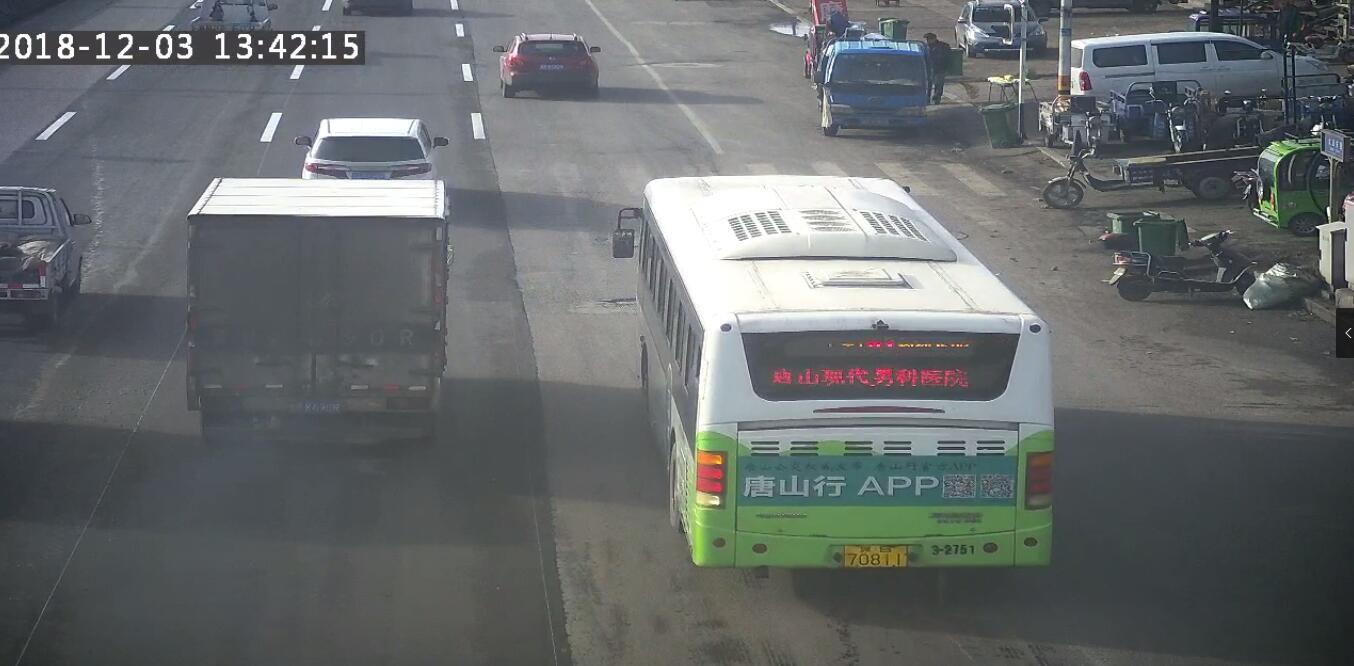yanwu: (164, 418, 303, 538)
